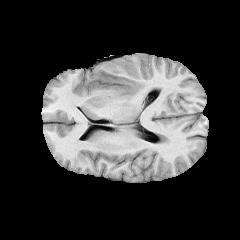glioma: (94, 65, 145, 99)
